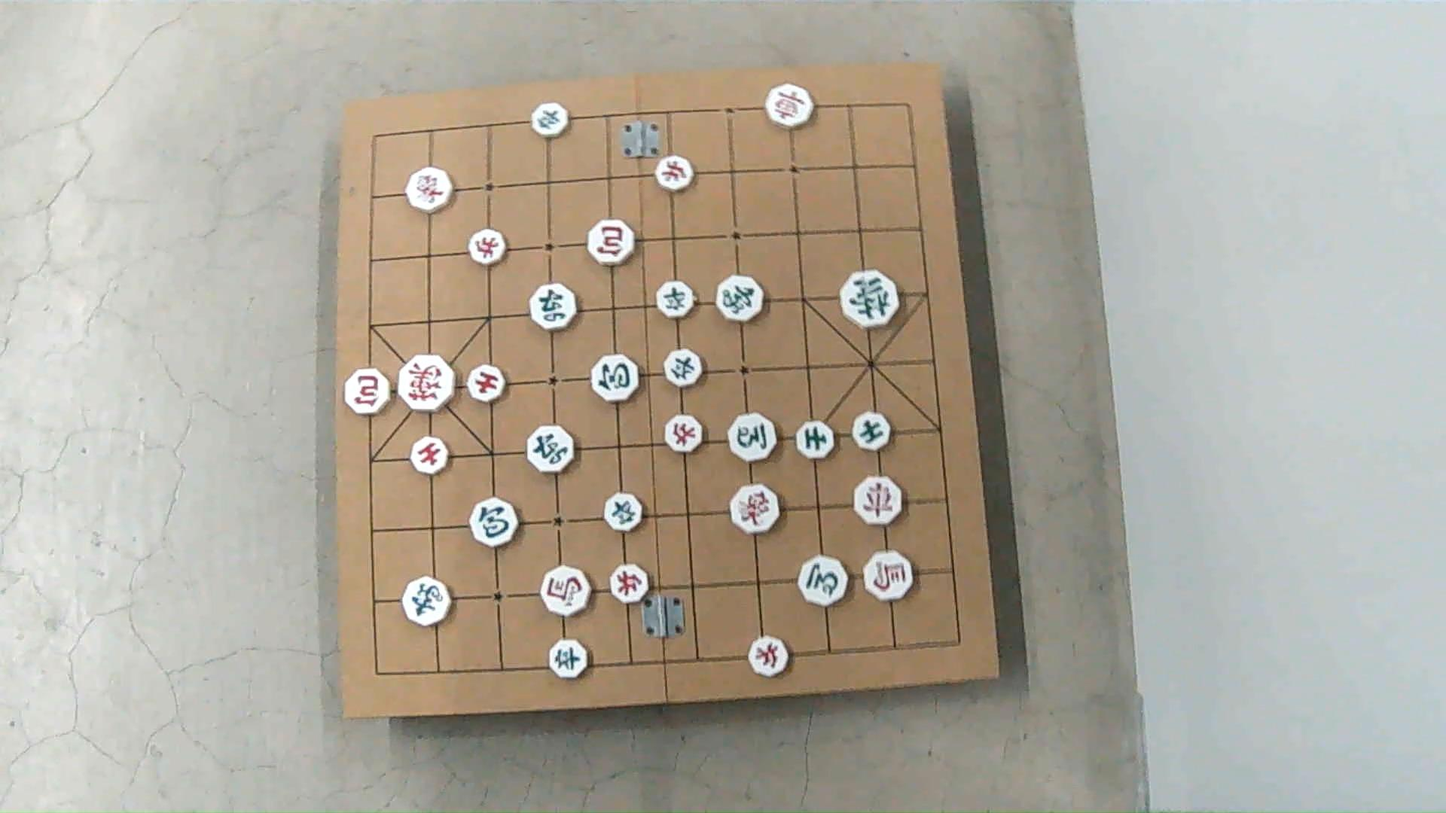cha_green: (528, 427, 575, 473), (530, 285, 576, 331)
cha_red: (856, 477, 903, 525), (766, 84, 813, 129)
jol_green: (549, 639, 588, 678), (664, 350, 703, 388), (605, 493, 642, 531), (656, 279, 694, 315), (532, 104, 570, 139)
jol_red: (751, 638, 791, 678), (609, 564, 648, 603), (667, 416, 705, 454), (654, 157, 693, 193), (467, 230, 505, 266)
ma_green: (796, 556, 846, 605), (729, 413, 776, 461)
ma_red: (863, 551, 913, 601), (541, 567, 590, 617)
po_green: (469, 496, 518, 547), (594, 355, 642, 402)
po_red: (590, 218, 637, 264), (347, 370, 394, 416)
sa_green: (855, 411, 893, 450), (797, 423, 835, 461)
sa_red: (413, 437, 451, 475), (467, 364, 505, 400)
sang_green: (401, 577, 450, 625), (715, 277, 763, 324)
sang_red: (729, 486, 779, 535), (405, 167, 450, 213)
wang_green: (842, 269, 899, 327)
wang_red: (399, 355, 456, 413)
